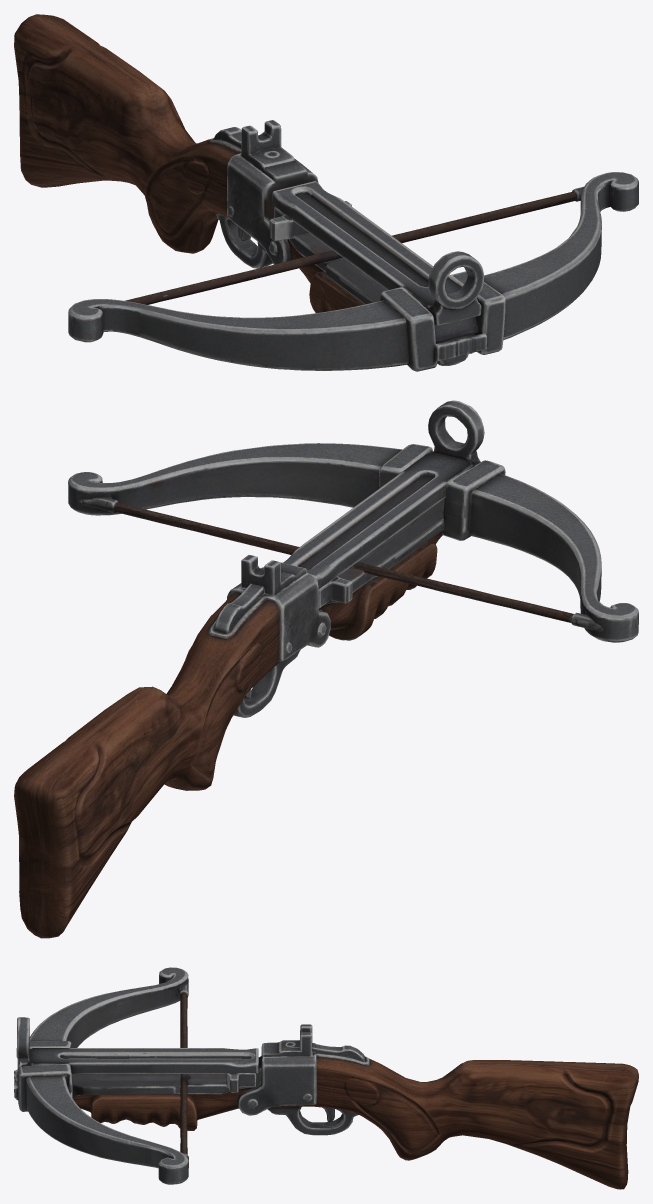
File: crossbow.high.glb
3 views of the same model, one above another, from view 1: azimuth 30°, elevation 25°; view 2: azimuth 150°, elevation 25°; view 3: azimuth 270°, elevation 25° (orthographic). The views are drawn at different scales.
Visible parts, largest first — view 1: model; view 2: model; view 3: model.
Boxes of the visible parts, bbox=[...] form: model: bbox=[14, 14, 638, 371]; model: bbox=[14, 400, 638, 938]; model: bbox=[14, 967, 638, 1189].
Size of the model in its own units: 0.652 by 0.257 by 0.86.
Materials: 1 (1 with a texture image).
